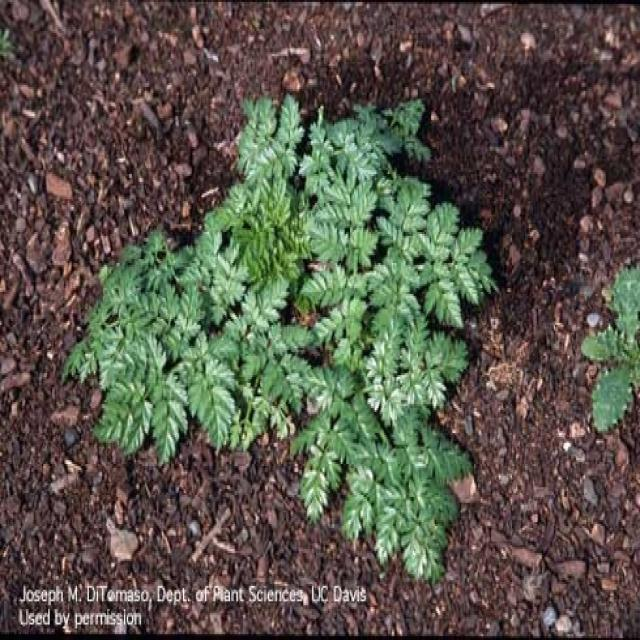Poisonous-Hemlock: (96, 82, 498, 587)
